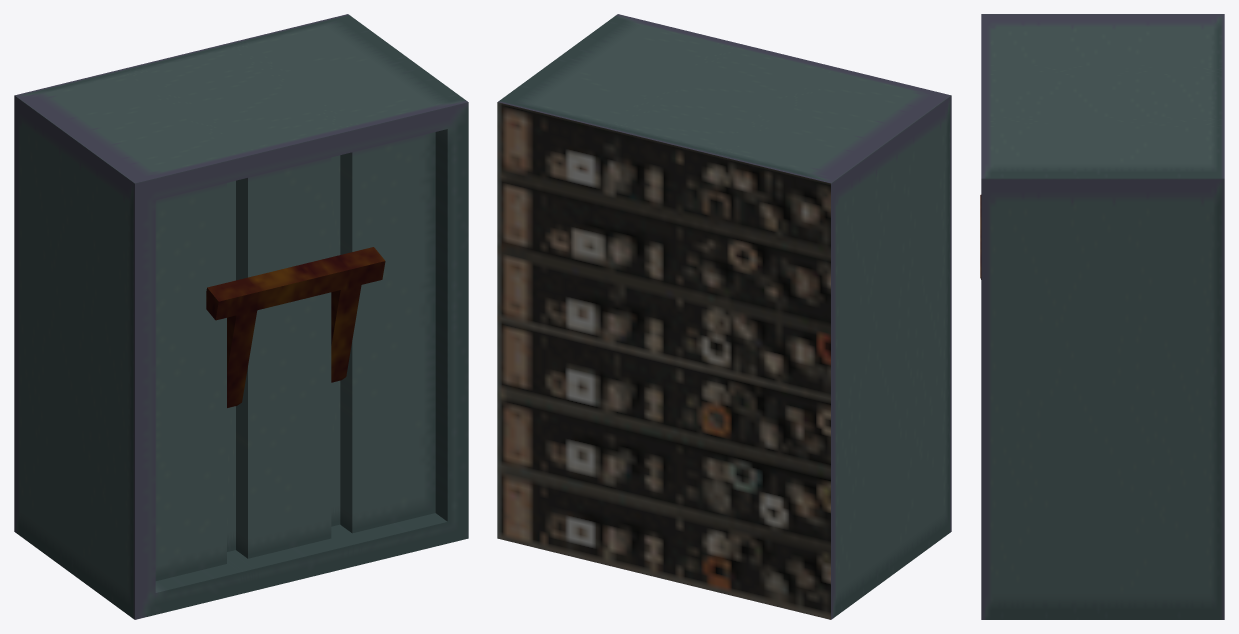
File: switch_lever.glb
The picture shows the model from 3 angles, left to right: view 1: azimuth 30°, elevation 25°; view 2: azimuth 150°, elevation 25°; view 3: azimuth 270°, elevation 25°; orthographic projection.
Parts seen in each view (by area): view 1: SwitchBox, SwitchLever; view 2: SwitchBox; view 3: SwitchBox.
Part boxes in pixels (<box>): SwitchBox: <box>14,14,468,619</box>; SwitchLever: <box>206,247,385,407</box>; SwitchBox: <box>497,14,951,619</box>; SwitchBox: <box>981,14,1224,619</box>.
Bounding box in the file's own units: 1.6 × 2 × 1.
Materials: 2 (2 with a texture image).
